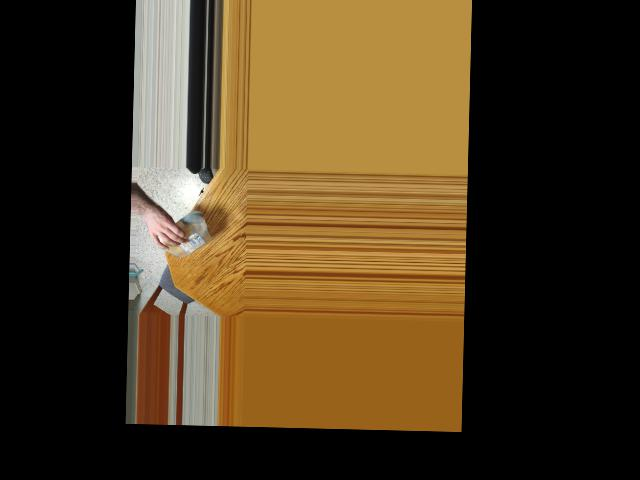cheese: (154, 212, 210, 259)
